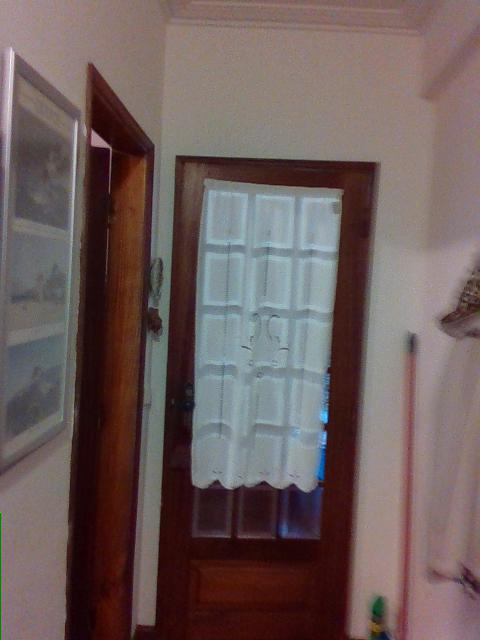door: (155, 153, 380, 640), (66, 61, 154, 640)
